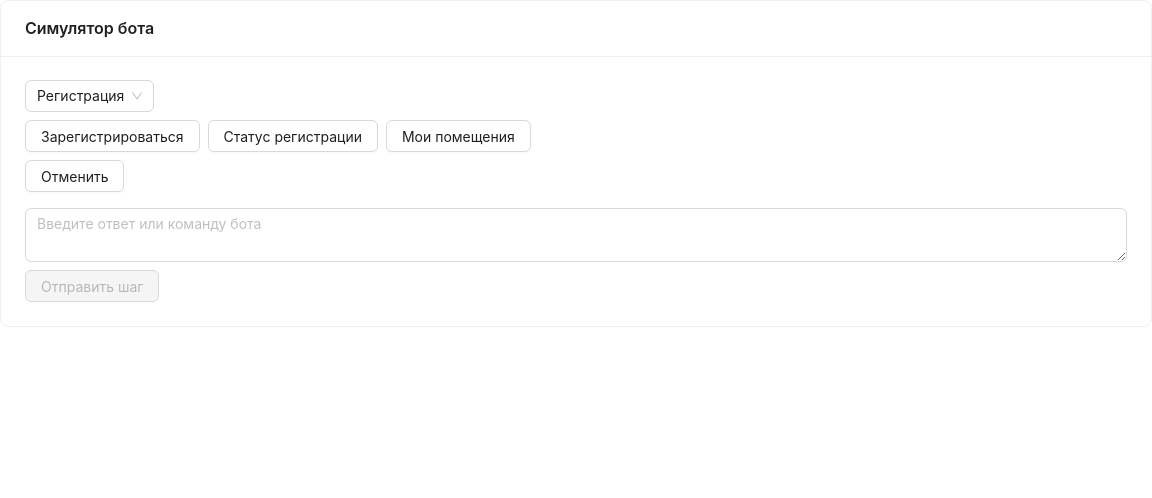
Test: открывает номер обращения своей служебной ссылкой в текущем симуляторе
Click the button "Зарегистрироваться".
click(112, 136)  # box [25, 120, 200, 152]
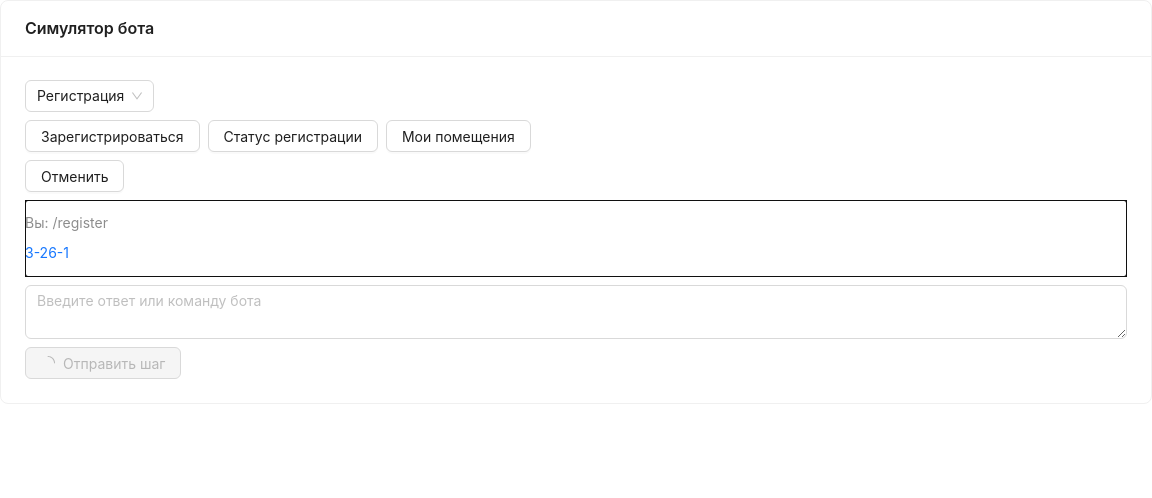
Click the link "З-26-1".
click(47, 252)  # box [25, 244, 69, 261]
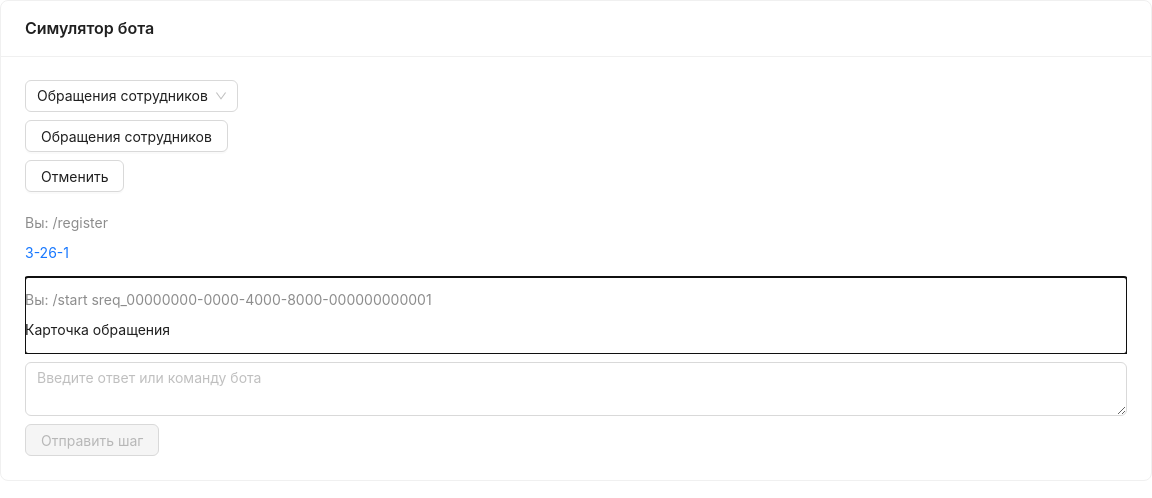
expect the text "Карточка обращения" is shown: met, box [25, 321, 170, 338]
